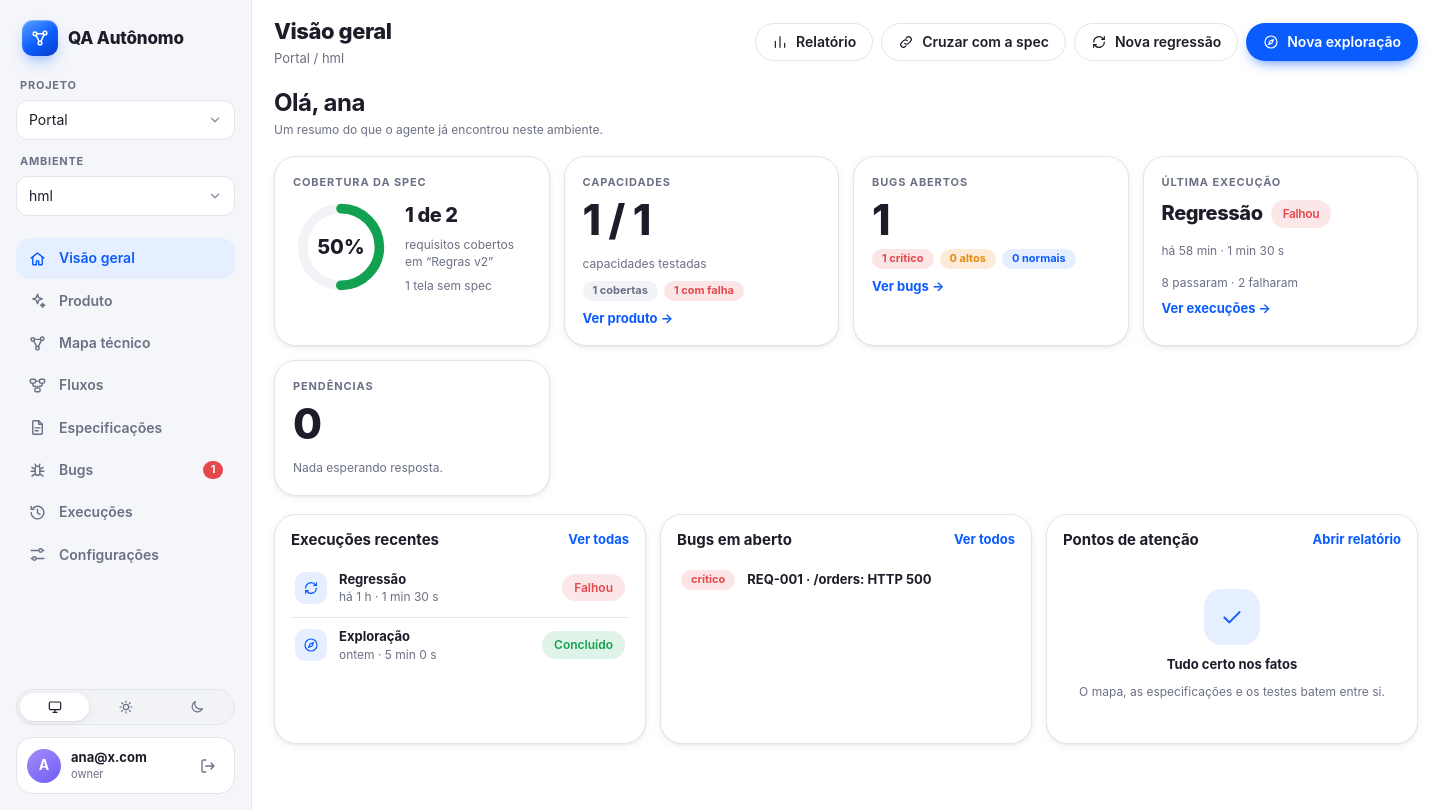
Test: navegação › troca de página pelo menu lateral e marca a atual
The image size is (1440, 810).
Click the link "Especificações": click(95, 428) top-left (28, 418), bottom-right (162, 437)
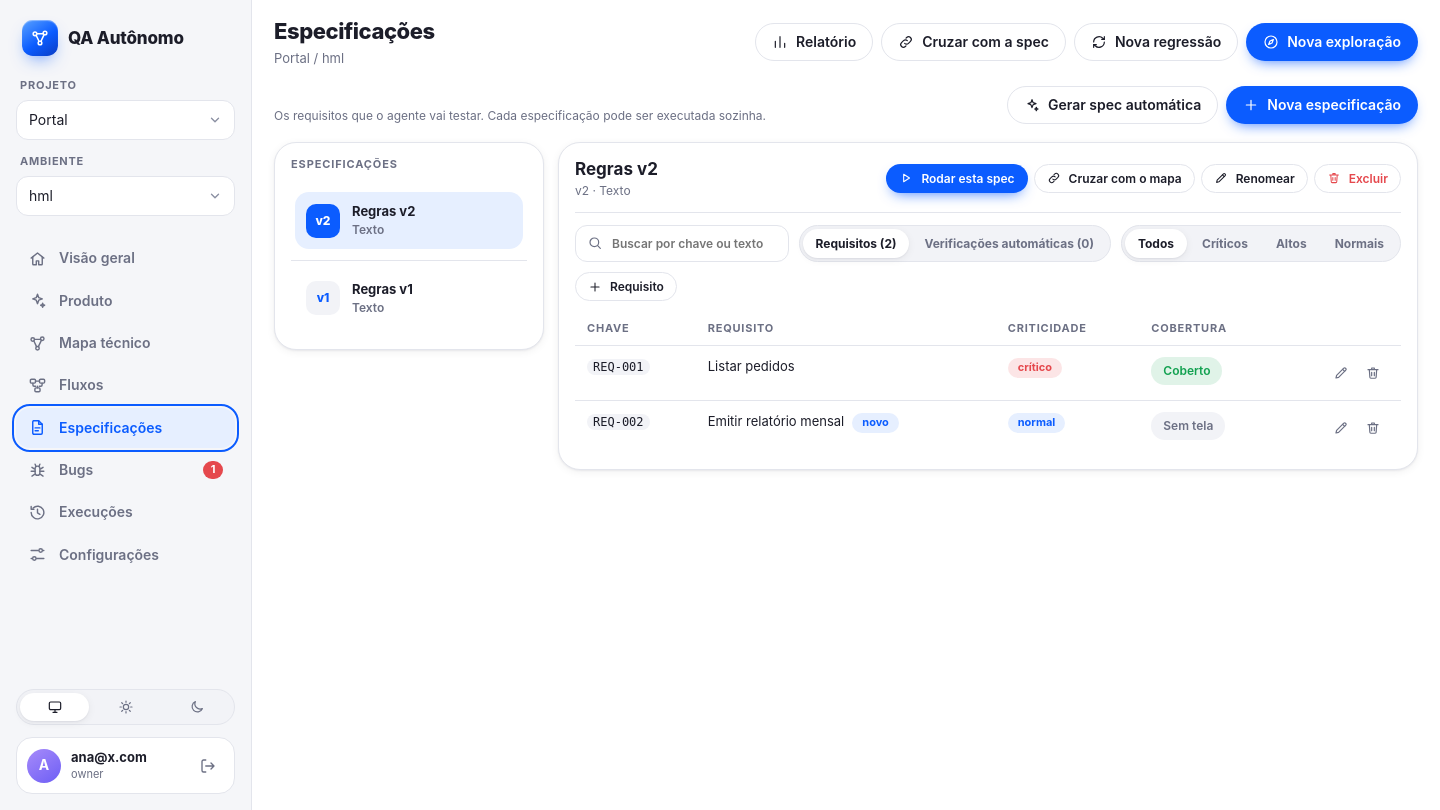
Expected: the link "Bugs 1" is shown, top-left (28, 461), bottom-right (223, 480)
Expected: the element named "Requisitos" is shown, top-left (558, 142), bottom-right (1418, 470)
